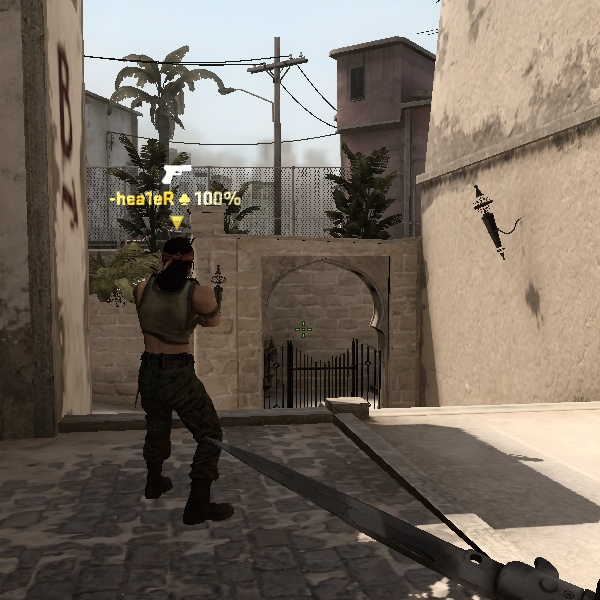t_body: (102, 225, 256, 525)
t_head: (150, 230, 202, 285)
